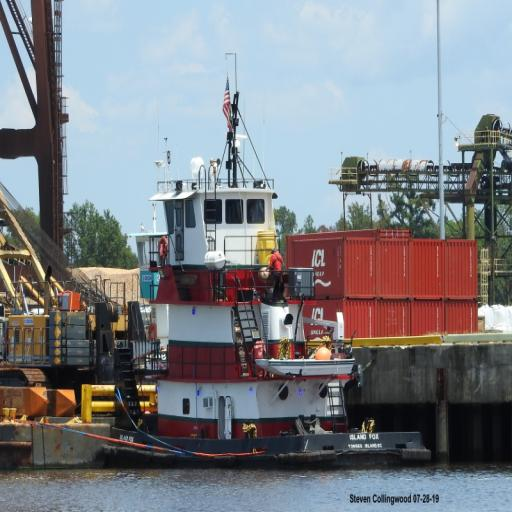tugboat: (110, 132, 436, 476)
